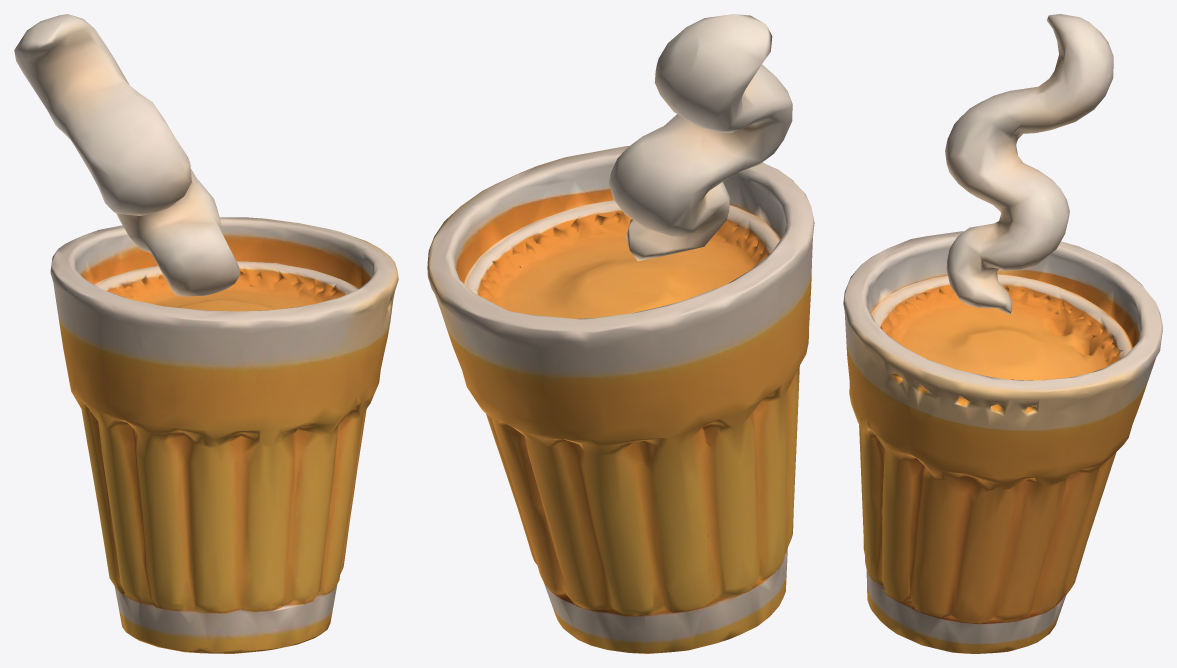
File: powerup-cutting-chai.glb
The picture shows the model from 3 angles, left to right: view 1: azimuth 30°, elevation 25°; view 2: azimuth 150°, elevation 25°; view 3: azimuth 270°, elevation 25°; orthographic projection. The views are drawn at different scales.
Visible parts, largest first — view 1: tripo_node_30202c59-df95-4ea3-bb2b-b48c3927eb63; view 2: tripo_node_30202c59-df95-4ea3-bb2b-b48c3927eb63; view 3: tripo_node_30202c59-df95-4ea3-bb2b-b48c3927eb63.
Part boxes in pixels (bbox=[...]): tripo_node_30202c59-df95-4ea3-bb2b-b48c3927eb63: bbox=[14, 14, 398, 653]; tripo_node_30202c59-df95-4ea3-bb2b-b48c3927eb63: bbox=[427, 14, 814, 653]; tripo_node_30202c59-df95-4ea3-bb2b-b48c3927eb63: bbox=[843, 14, 1162, 653].
Bounding box in the file's own units: 0.554 × 1 × 0.5237.
Materials: 1 (1 with a texture image).
